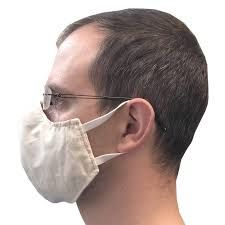with-mask: (17, 25, 153, 210)
